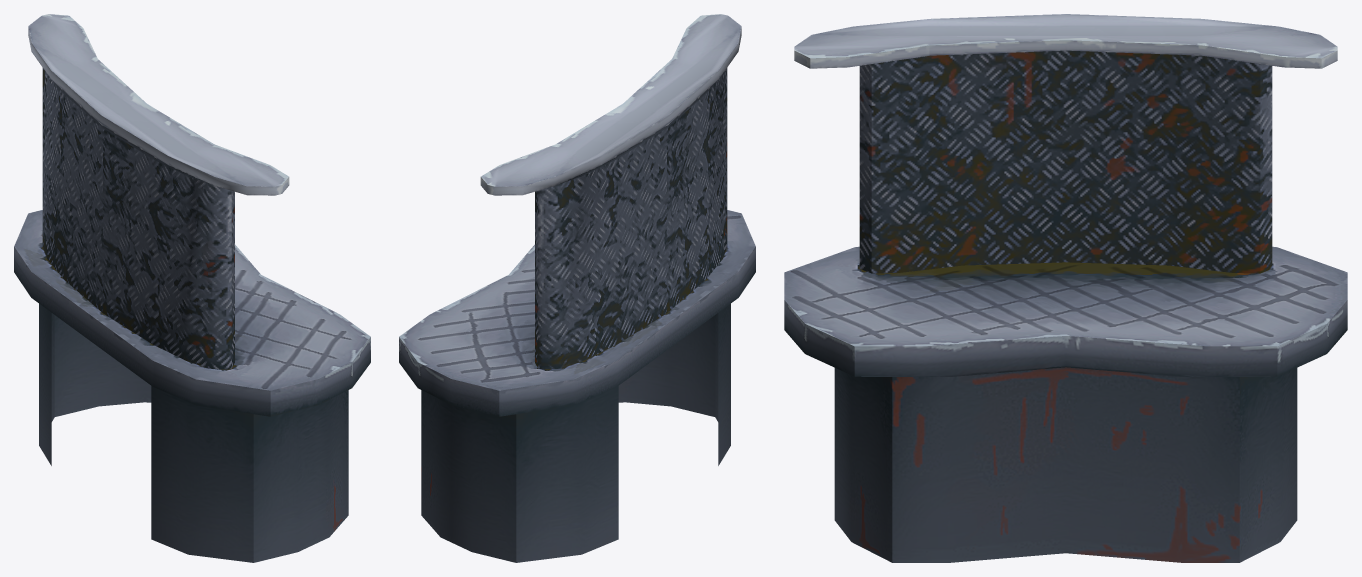
Rendered from PROP_039_Workbench.fbx.
The picture shows the model from 3 angles, left to right: view 1: azimuth 30°, elevation 25°; view 2: azimuth 150°, elevation 25°; view 3: azimuth 270°, elevation 25°; orthographic projection. The views are drawn at different scales.
Visible parts, largest first — view 1: Mesa_Trabajo; view 2: Mesa_Trabajo; view 3: Mesa_Trabajo.
Boxes of the visible parts, <box> form: Mesa_Trabajo: <box>14,14,370,562</box>; Mesa_Trabajo: <box>399,14,755,562</box>; Mesa_Trabajo: <box>784,14,1347,562</box>.
Size of the model in its own units: 1.09 by 2.15 by 2.43.
Materials: 1 (1 with a texture image).
